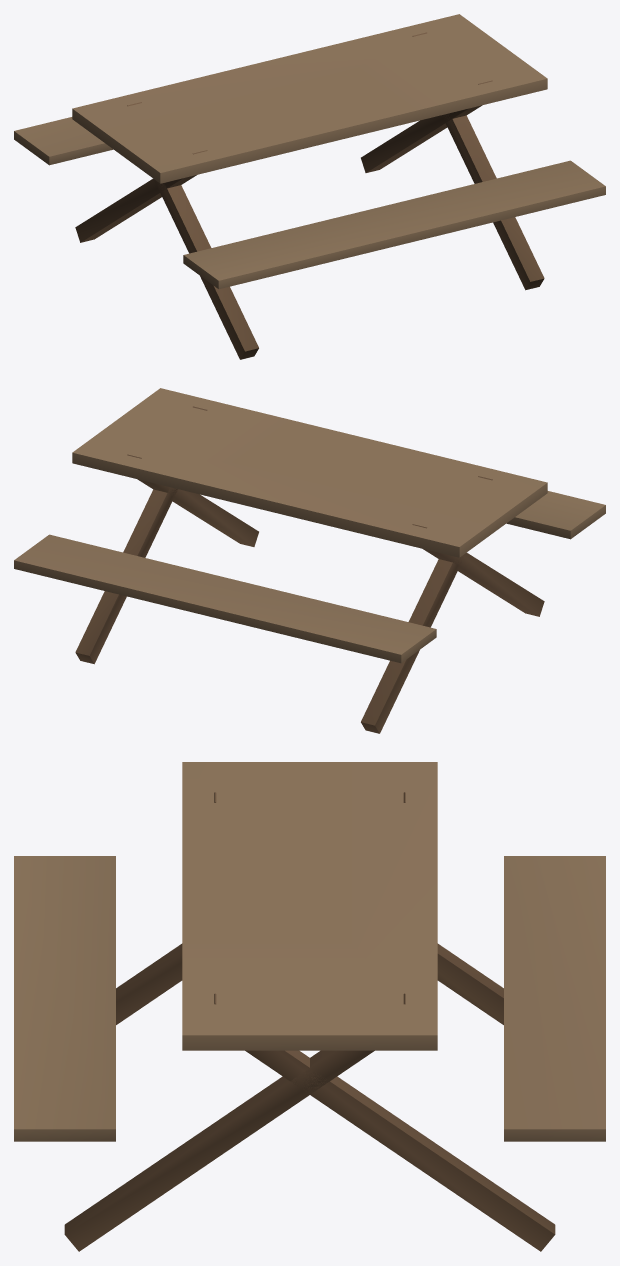
The model's file is picknick.glb.
3 renders of one model, top to bottom at view 1: azimuth 30°, elevation 25°; view 2: azimuth 150°, elevation 25°; view 3: azimuth 270°, elevation 25°, orthographic. The views are drawn at different scales.
Parts seen in each view (by area): view 1: lack; view 2: lack; view 3: lack.
Part boxes in pixels (x1=…): lack: x1=14, y1=14, x2=605, y2=359; lack: x1=14, y1=388, x2=605, y2=733; lack: x1=14, y1=762, x2=605, y2=1251.
Bounding box in the file's own units: 1.9 × 0.8061 × 1.74.
